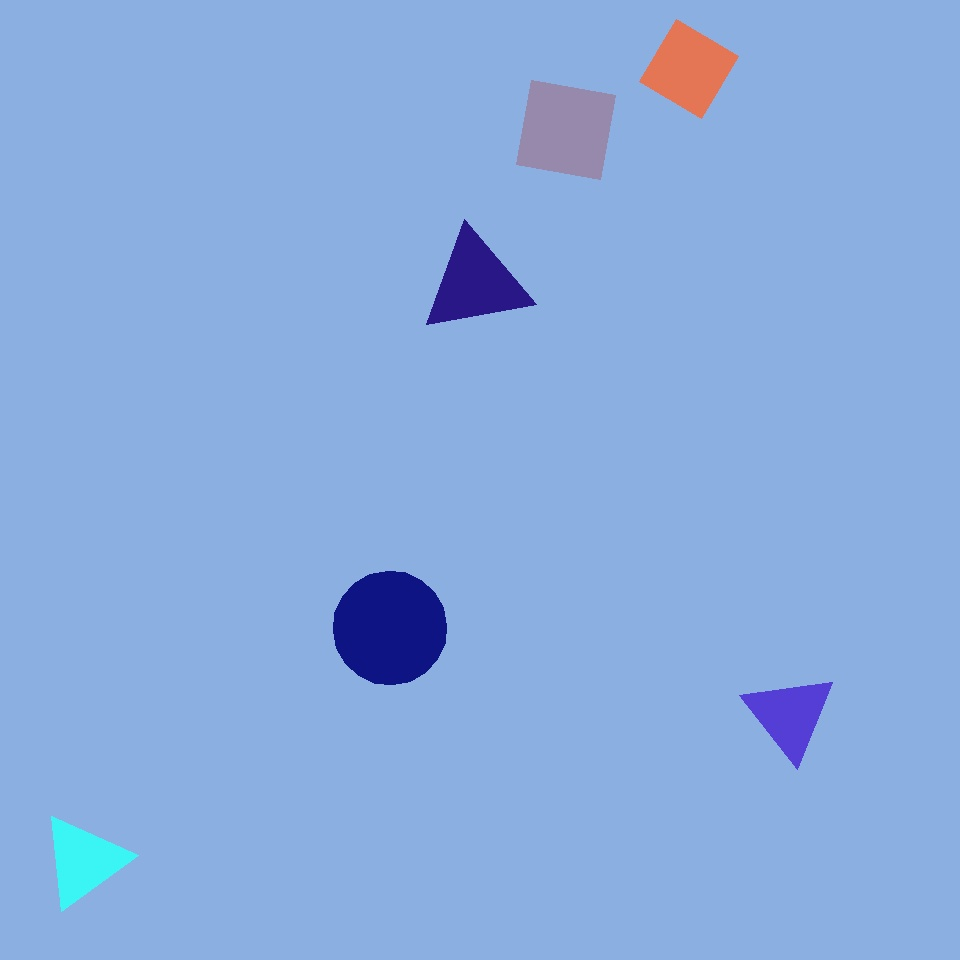circle: (421, 230, 531, 336), (40, 814, 128, 908), (744, 672, 836, 760)
square: (516, 80, 616, 179), (640, 19, 738, 118)
triangle: (334, 572, 446, 684)
